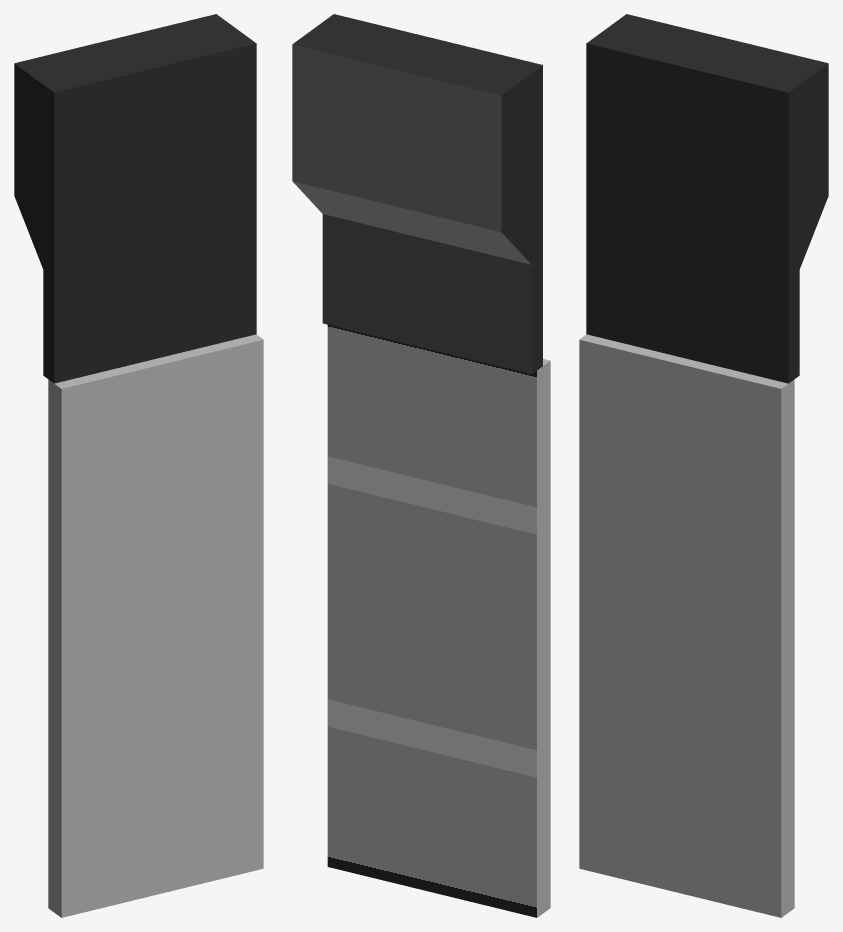
File: CalShipCargoWallDoorMiddle1.gltf
The picture shows the model from 3 angles, left to right: view 1: azimuth 30°, elevation 25°; view 2: azimuth 150°, elevation 25°; view 3: azimuth 330°, elevation 25°; orthographic projection. The views are drawn at different scales.
Parts seen in each view (by area): view 1: mesh; view 2: mesh; view 3: mesh.
Part boxes in pixels (x1,y1,x2,y2): mesh: (14, 14, 263, 917); mesh: (292, 14, 550, 917); mesh: (579, 14, 828, 917).
Size of the model in its own units: 1 by 3.88 by 0.4063.
Materials: 1 (1 with a texture image).
